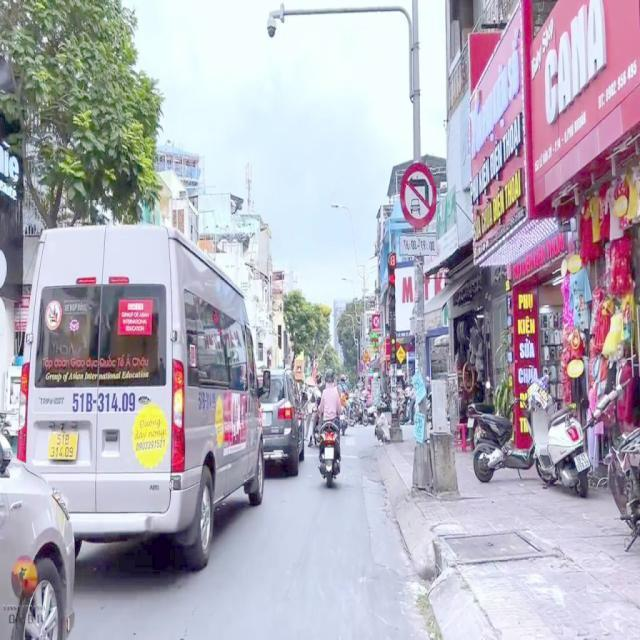123a-cam-re-trai: (400, 163, 438, 226)
